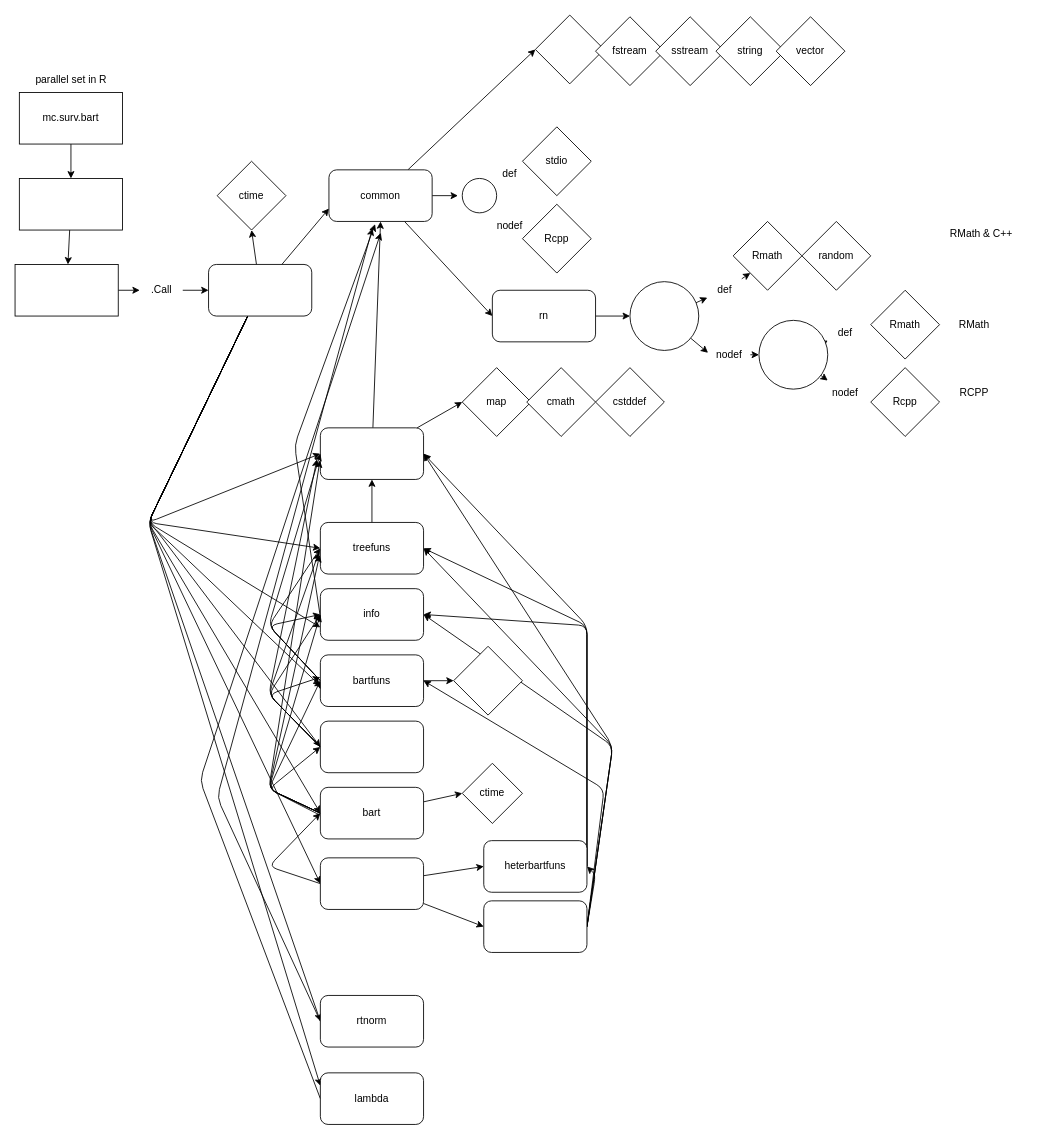
Image size: 1041x1140. Some labels were removed from this diagram. The centre of each missing label's shape, as x and y in pixels:
"algorithm" goes at (x=487, y=680).
"bd" goes at (x=371, y=746).
"cgbart" goes at (x=260, y=290).
"gbart" goes at (x=66, y=290).
"heterbart" goes at (x=371, y=883).
"heterbd" goes at (x=535, y=926).
"iostream" goes at (x=569, y=49).
"NoRcpp" goes at (x=479, y=195).
"RNG_Random" goes at (x=664, y=315).
"RNG_Rmath" goes at (x=793, y=354).
"surv.bart" goes at (x=70, y=204).
"tree" goes at (x=371, y=453).
